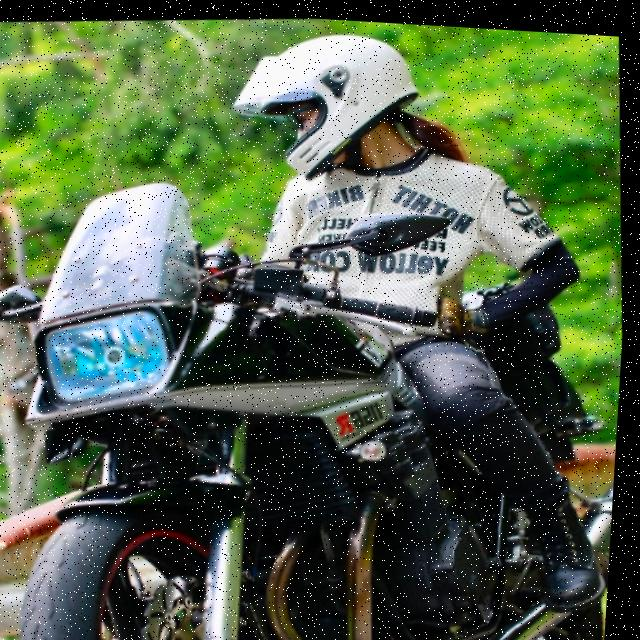helmet: (221, 13, 435, 192)
